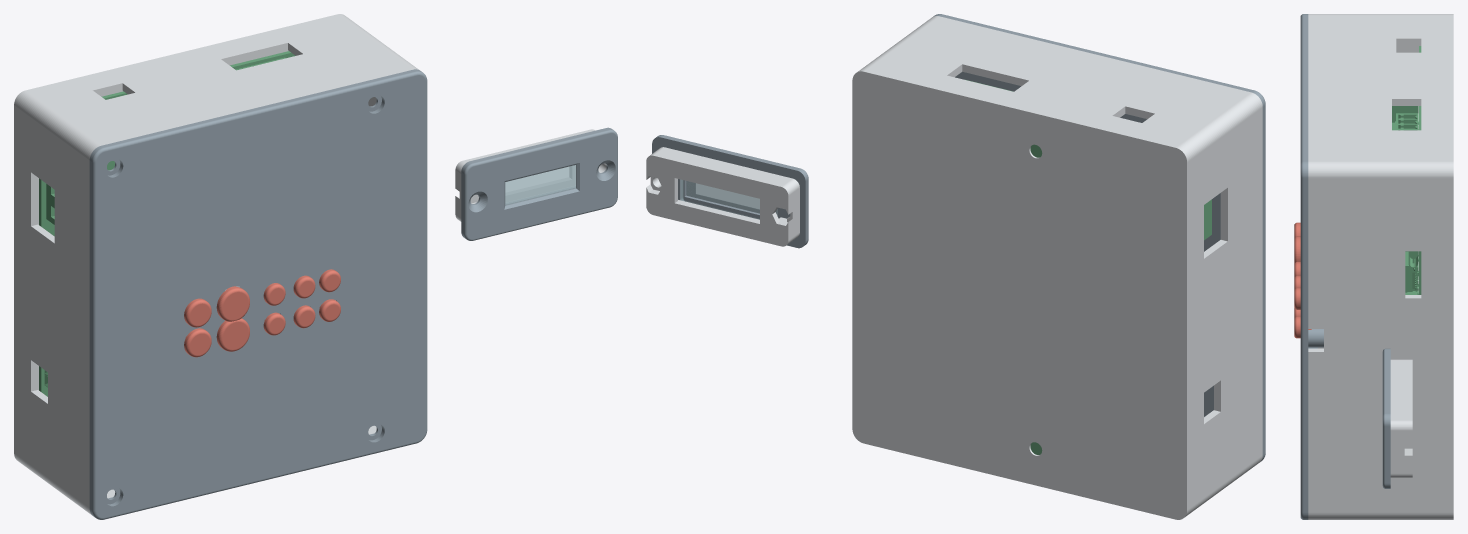
File: enclosure-assembly.glb
The picture shows the model from 3 angles, left to right: view 1: azimuth 30°, elevation 25°; view 2: azimuth 150°, elevation 25°; view 3: azimuth 270°, elevation 25°; orthographic projection. The views are drawn at different scales.
Visible parts, largest first — view 1: lid_buttons, base, lid_display, door_bezel, button_caps_buttons, button_caps_display, door_lens, door_holder, main_board; view 2: base, door_holder, lid_buttons, door_bezel, door_lens, lid_display; view 3: base, lid_buttons, door_holder, main_board, door_bezel, button_caps_buttons, button_caps_display.
Part boxes in pixels (x1=…): lid_buttons: x1=89, y1=69, x2=427, y2=519; base: x1=14, y1=14, x2=418, y2=514; lid_display: x1=109, y1=83, x2=425, y2=499; door_bezel: x1=461, y1=127, x2=617, y2=240; button_caps_buttons: x1=184, y1=269, x2=340, y2=327; button_caps_display: x1=184, y1=299, x2=340, y2=357; door_lens: x1=505, y1=165, x2=575, y2=205; door_holder: x1=455, y1=129, x2=606, y2=221; main_board: x1=39, y1=51, x2=295, y2=396; base: x1=852, y1=16, x2=1262, y2=519; door_holder: x1=646, y1=147, x2=799, y2=246; lid_buttons: x1=933, y1=14, x2=1265, y2=461; door_bezel: x1=652, y1=135, x2=808, y2=248; door_lens: x1=680, y1=179, x2=777, y2=219; lid_display: x1=955, y1=72, x2=1220, y2=402; base: x1=1308, y1=14, x2=1453, y2=519; lid_buttons: x1=1300, y1=14, x2=1323, y2=519; door_holder: x1=1390, y1=359, x2=1412, y2=477; main_board: x1=1392, y1=46, x2=1421, y2=294; door_bezel: x1=1382, y1=348, x2=1390, y2=488; button_caps_buttons: x1=1294, y1=222, x2=1300, y2=309; button_caps_display: x1=1294, y1=308, x2=1311, y2=338.
Bounding box in the file's own units: 200 × 125 × 50.6.
